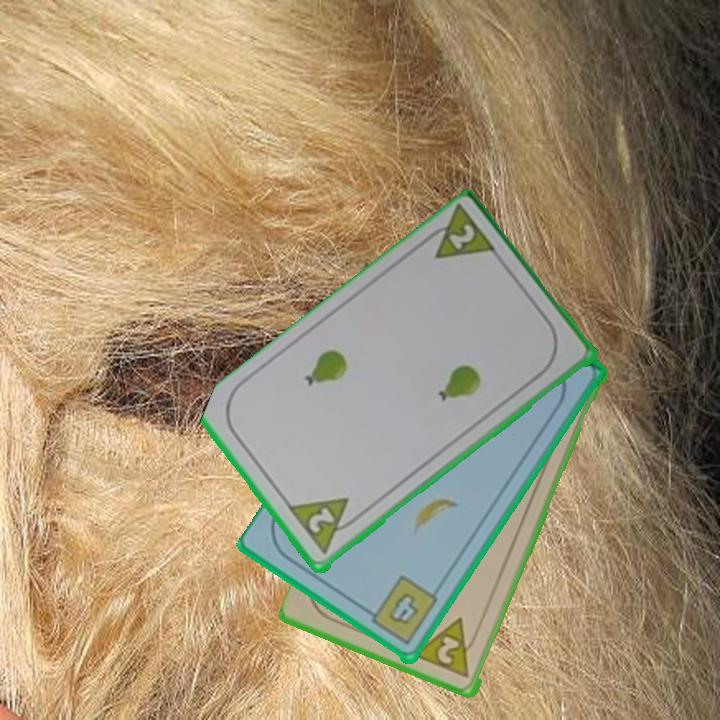2p: (417, 203, 501, 263), (286, 494, 364, 558), (433, 633, 463, 668)
4b: (361, 573, 441, 649)
